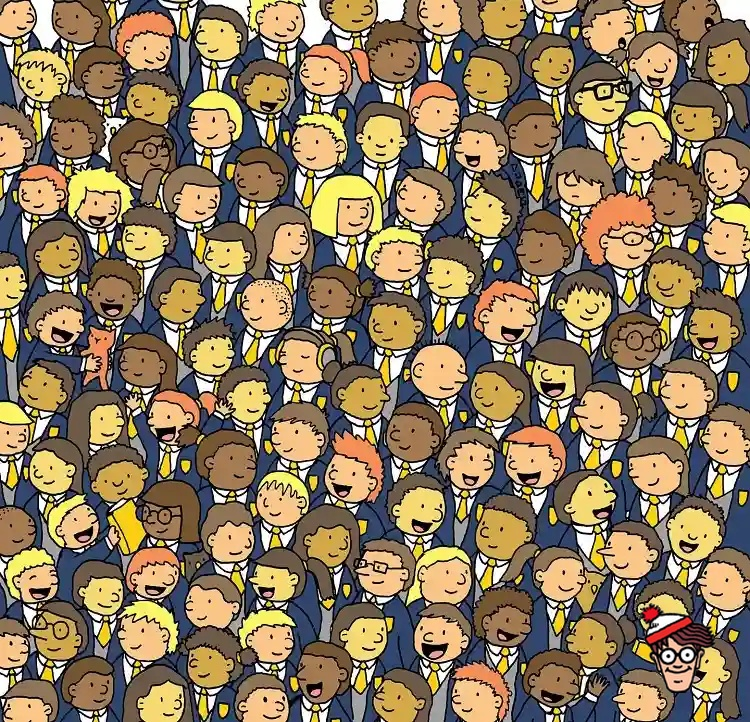waldo: (640, 603, 716, 693)
